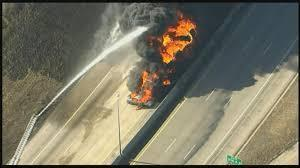fire: (153, 29, 183, 64), (132, 68, 156, 106), (175, 8, 196, 48)
